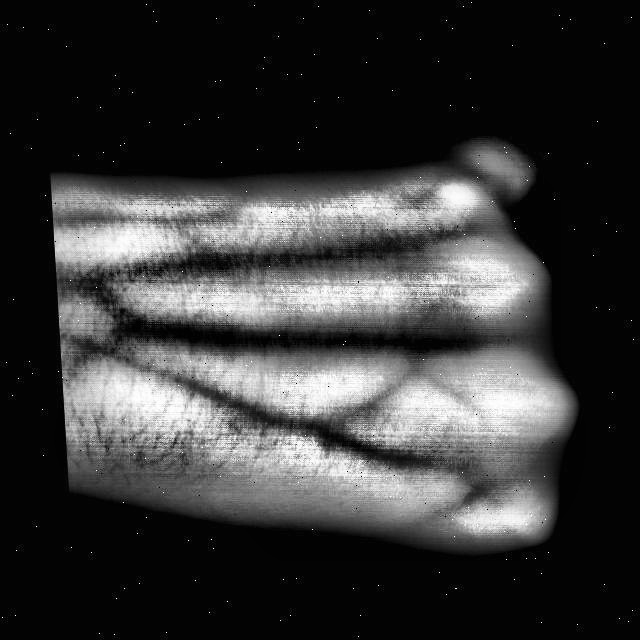Vein: (66, 327, 278, 434), (180, 317, 393, 354)
